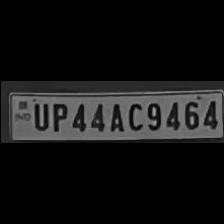4: (67, 100, 87, 132), (86, 100, 106, 132), (162, 98, 180, 130), (200, 97, 218, 129)
6: (180, 98, 200, 130)
9: (142, 99, 162, 130)
A: (105, 100, 123, 132)
C: (123, 100, 143, 132)
P: (47, 100, 67, 132)
U: (28, 99, 48, 130)
